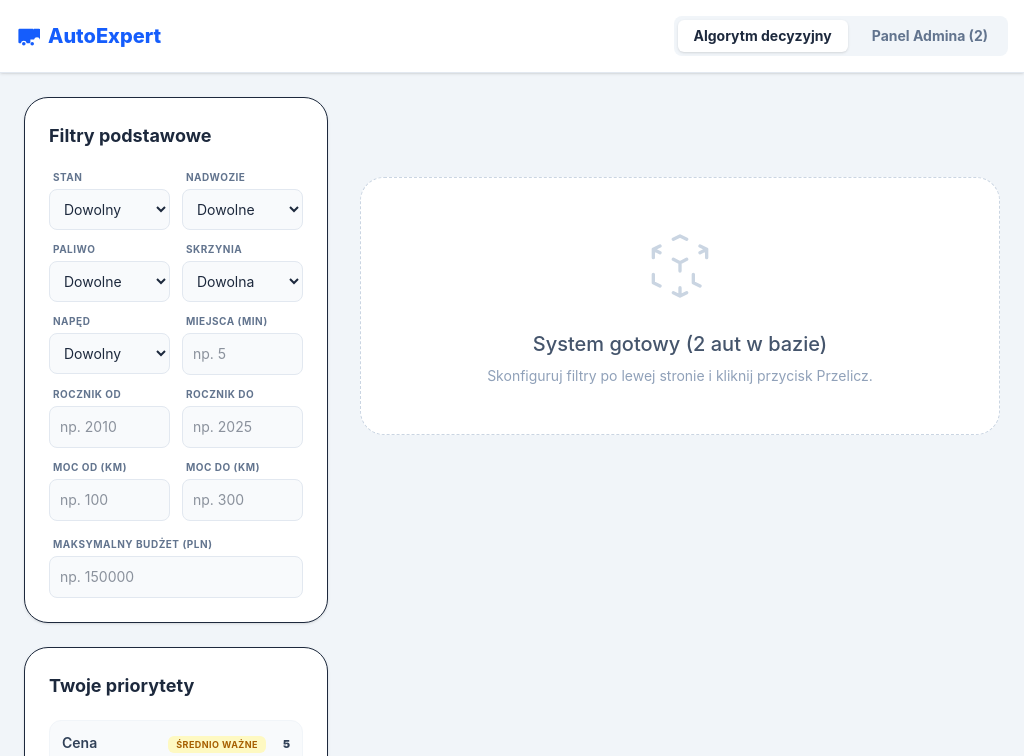
Test case: Komponent App (testy integracyjne) › pozwala przełączyć widok na leniwie ładowany Panel Admina
The image size is (1024, 756).
Click the button "Panel Admina (2)".
click(930, 36)  # box left=856, top=20, right=1004, bottom=52
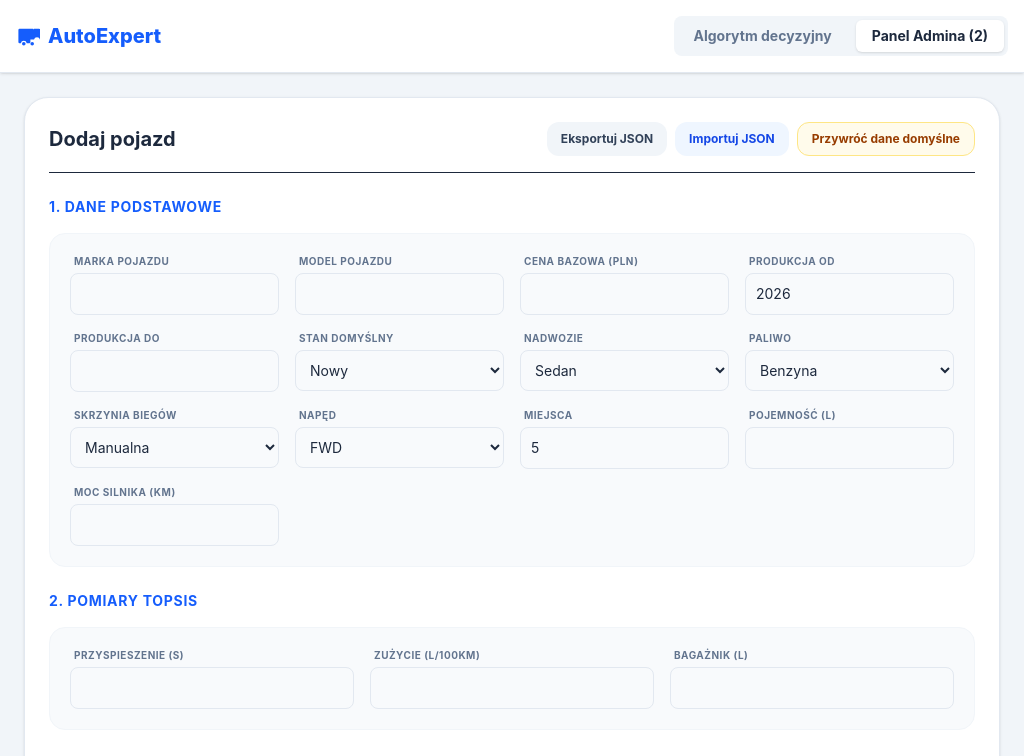
Now the button "Przywróć dane domyślne" is shown, box left=797, top=122, right=975, bottom=156
